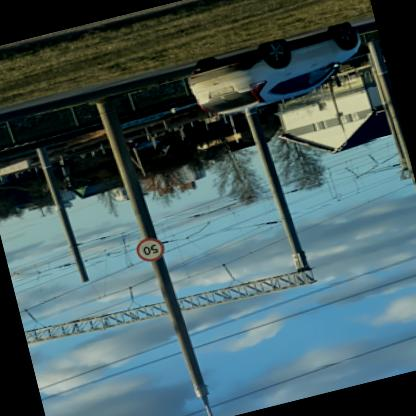speedlimit: (136, 235, 171, 266)
